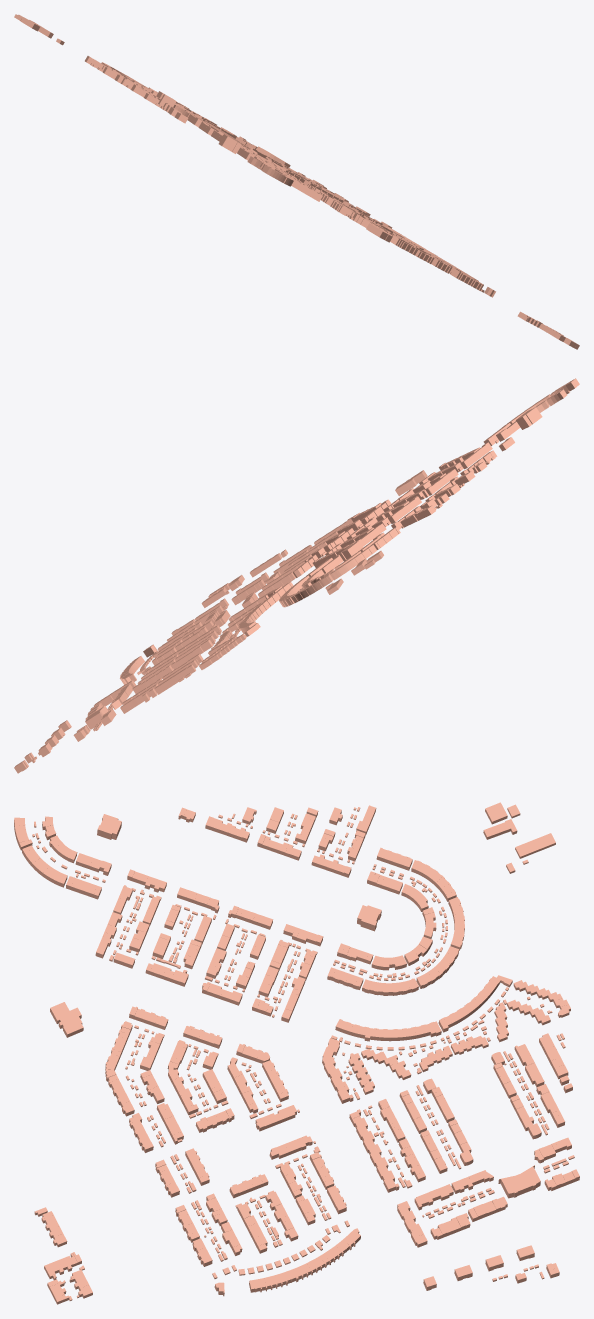
3 views of the same model, one above another, from view 1: azimuth 30°, elevation 25°; view 2: azimuth 150°, elevation 25°; view 3: azimuth 270°, elevation 25° (orthographic). The views are drawn at different scales.
Size of the model in its own units: 521 by 383 by 631.
